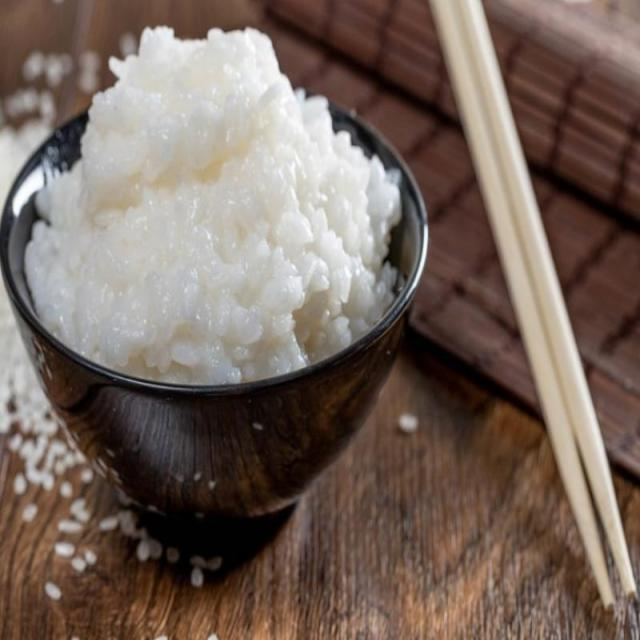nasi_putih: (21, 21, 402, 386)
